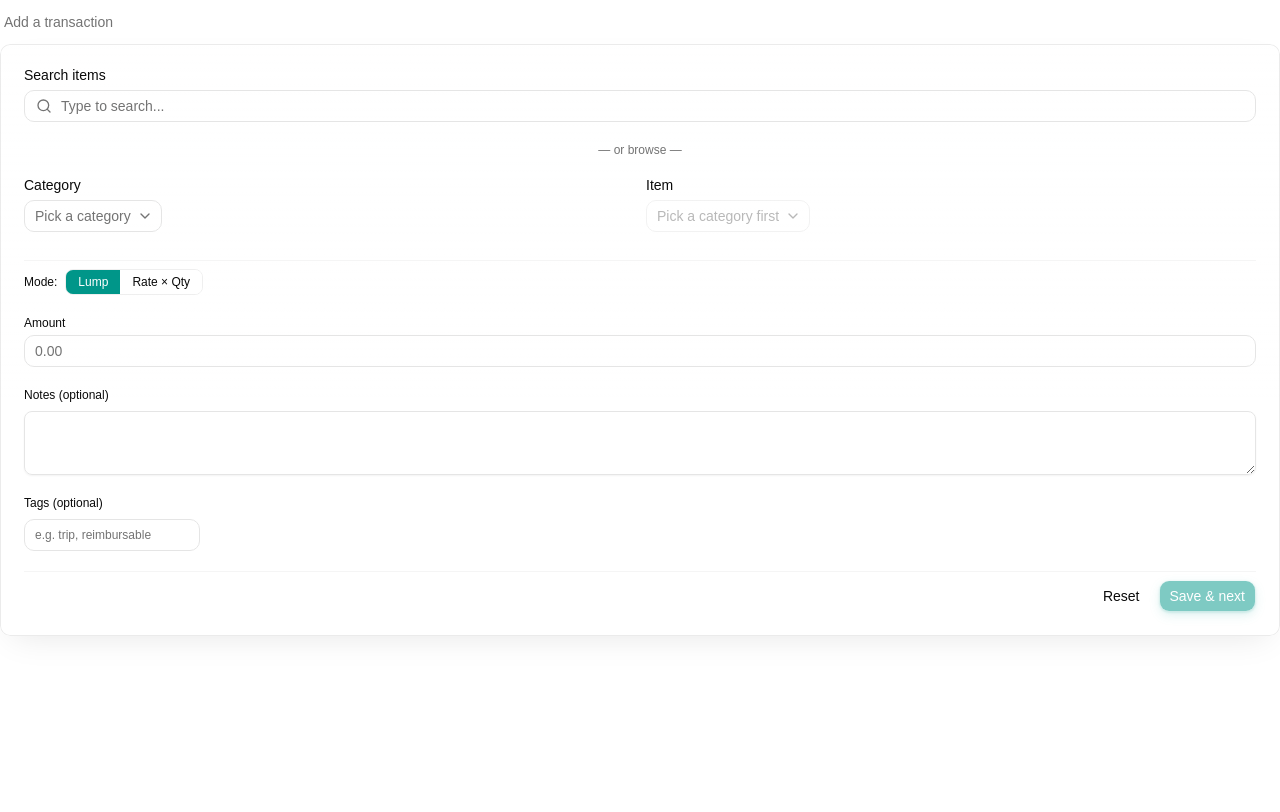
TransactionEntryForm amount sums › shows the result of a typed sum and settles it on blur
In the field labelled "Search items": (640, 106) [24,90,1256,122], type "Petr"
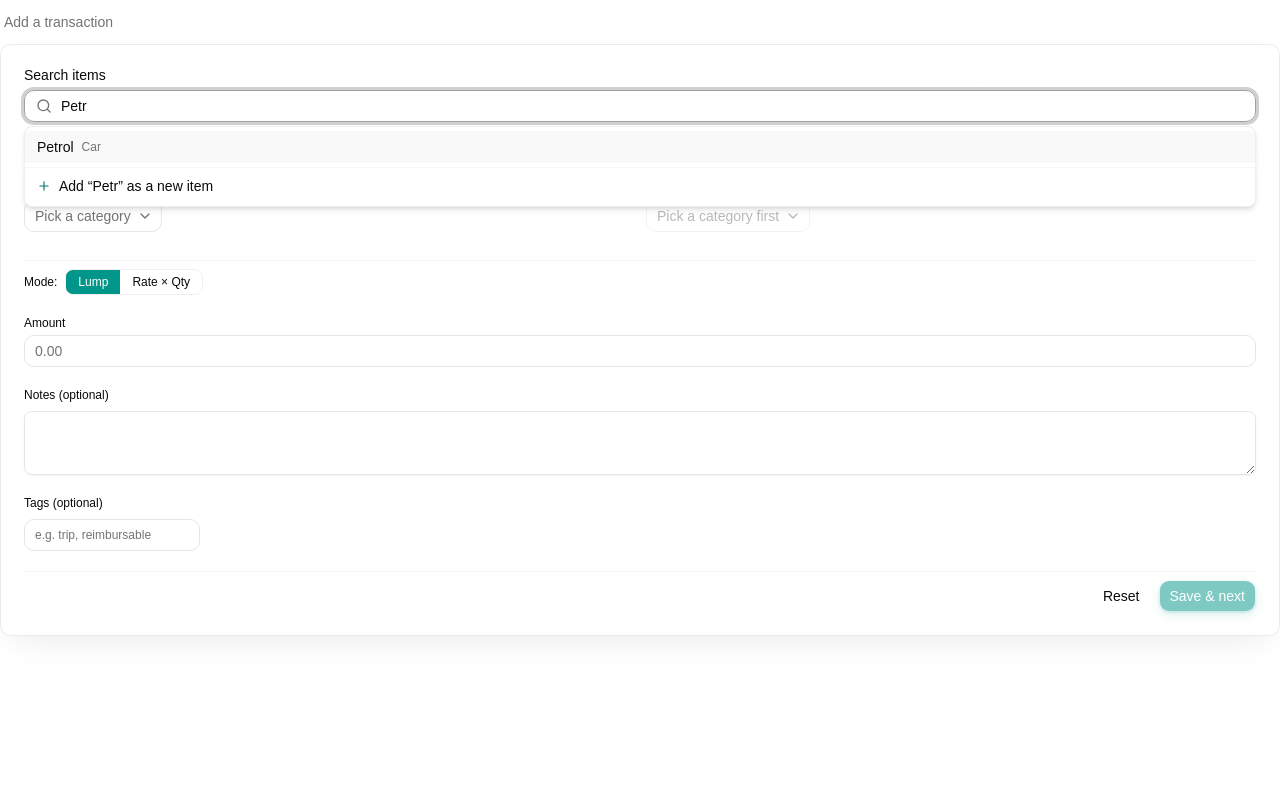
Click the button "Petrol Car": (55, 147) [25,131,1255,163]
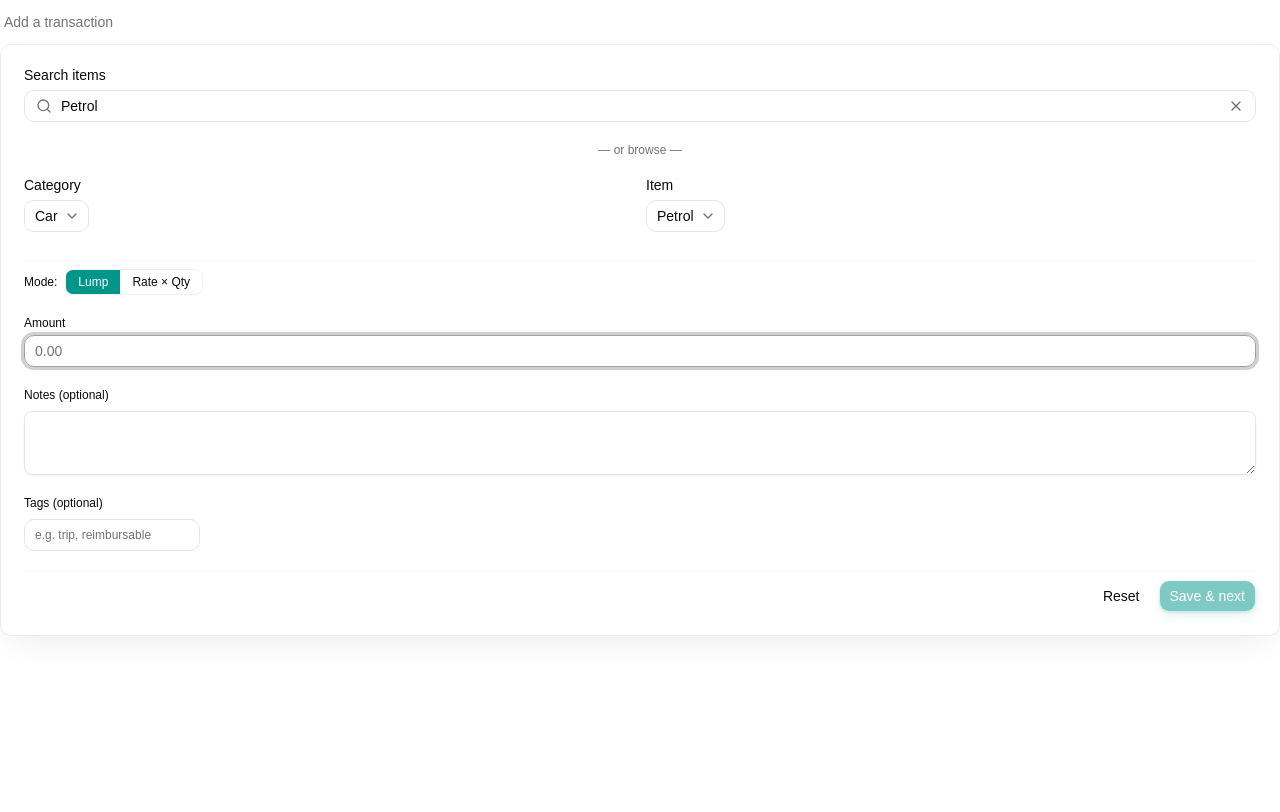
In the field labelled "Amount": (640, 351) [24,335,1256,367], type "120+80"
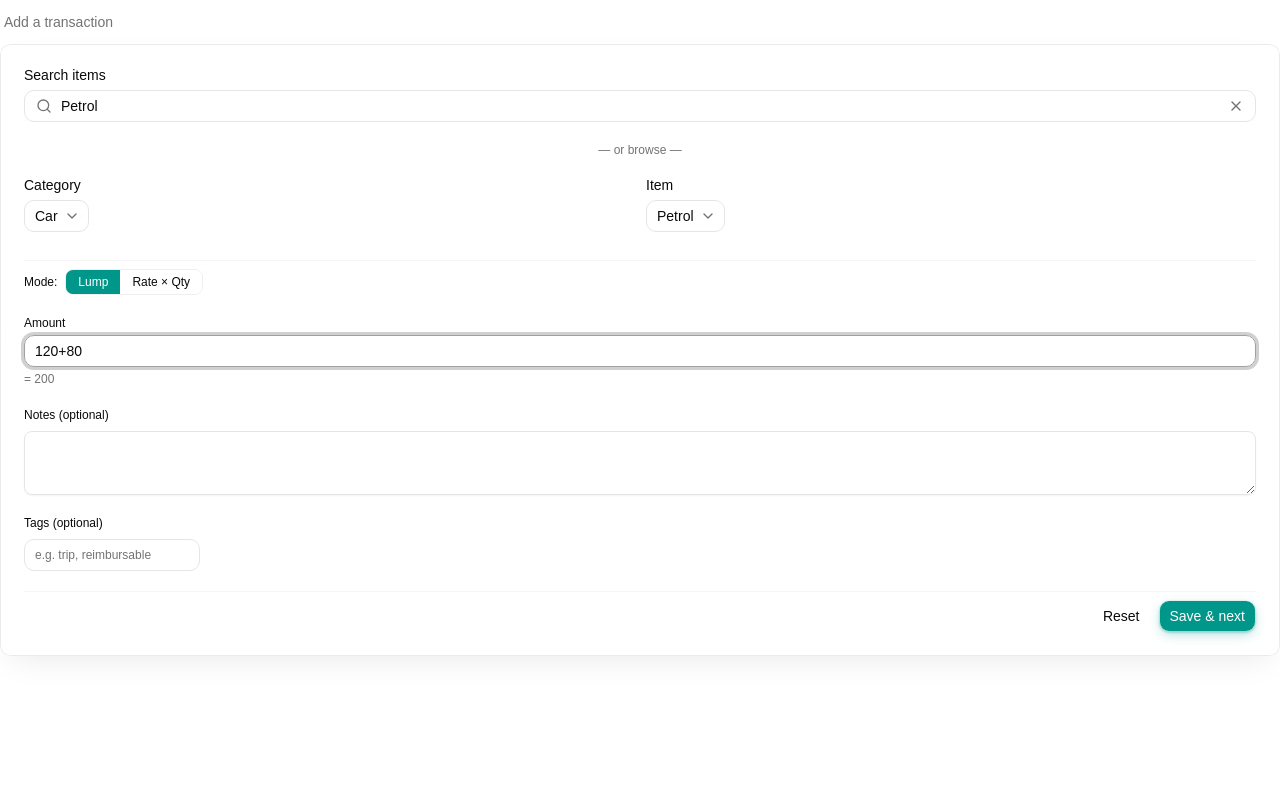
Result: the text "= 200" is shown at [24,372,54,386]
Press Tab
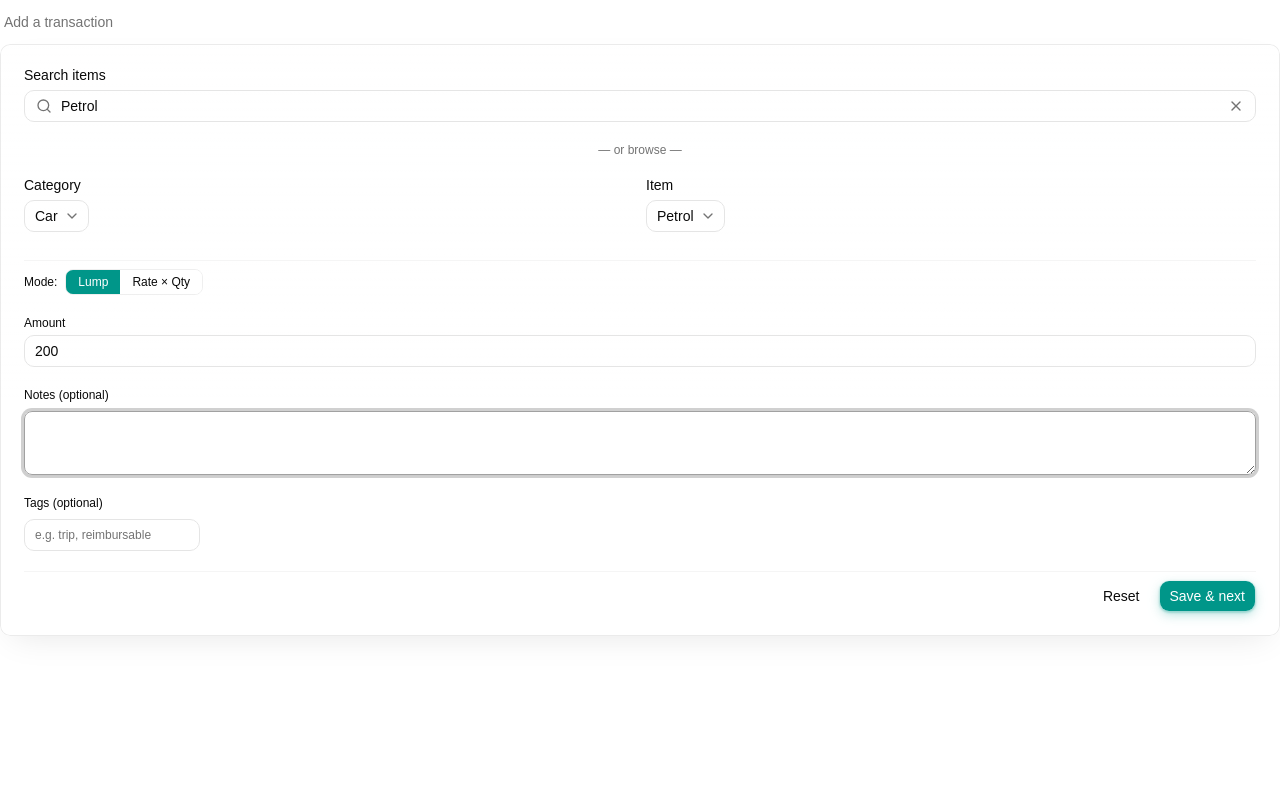
Result: the field labelled "Amount" holds "200" at [24,335,1256,367]
Result: the text "= 200" is gone
